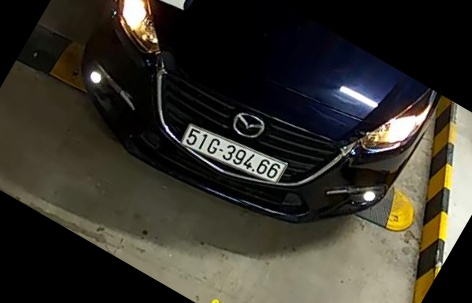plate: (176, 118, 289, 190)
